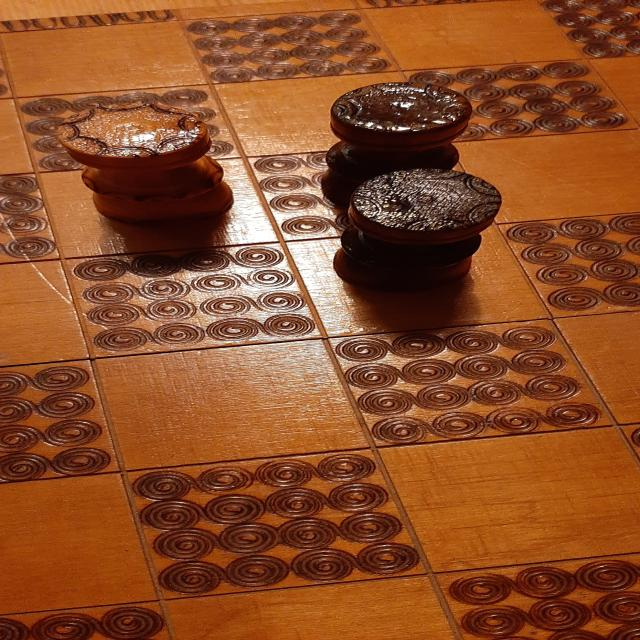black-rook: (331, 168, 503, 294), (322, 80, 474, 186)
white-rook: (57, 102, 234, 225)
